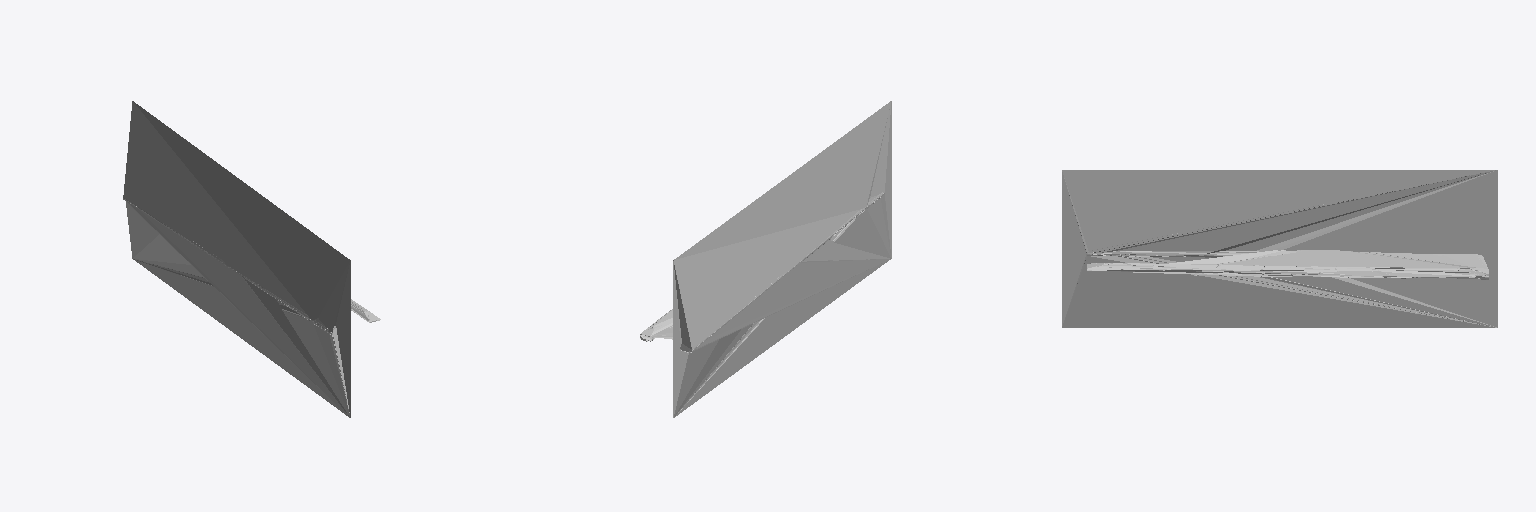
The model's file is ym2_Sec.obj.
3 renders of one model, left to right at view 1: azimuth 30°, elevation 25°; view 2: azimuth 150°, elevation 25°; view 3: azimuth 270°, elevation 25°, orthographic.
Visible parts, largest first — view 1: 3, hole, 0, tunnel_left, tunnel_right; view 2: 3, hole, 0, tunnel_left, 1, tunnel_right, Plane001; view 3: 0, 1, 3, tunnel_left, 2.
Part boxes in pixels (bbox=[...]): 3: bbox=[123, 101, 349, 334]; hole: bbox=[125, 101, 349, 412]; 0: bbox=[123, 198, 380, 415]; tunnel_left: bbox=[126, 200, 350, 417]; tunnel_right: bbox=[163, 251, 349, 415]; 3: bbox=[673, 105, 890, 415]; hole: bbox=[674, 101, 890, 412]; 0: bbox=[640, 193, 889, 416]; tunnel_left: bbox=[674, 101, 891, 417]; 1: bbox=[673, 194, 882, 417]; tunnel_right: bbox=[680, 198, 890, 408]; Plane001: bbox=[673, 263, 688, 409]; 0: bbox=[1062, 170, 1494, 302]; 1: bbox=[1064, 170, 1497, 327]; 3: bbox=[1062, 251, 1496, 327]; tunnel_left: bbox=[1062, 171, 1493, 325]; 2: bbox=[1063, 256, 1495, 327].
Size of the model in its own units: 56.51 by 150 by 375.